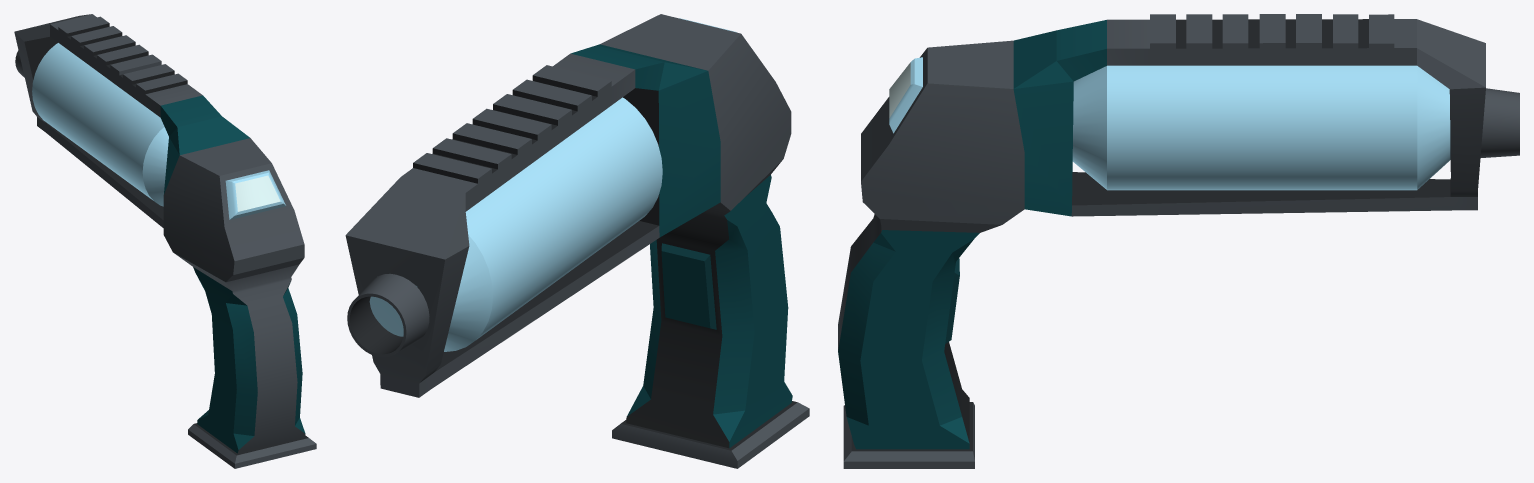
Rendered from Bubble Gun.fbx.
3 renders of one model, left to right at view 1: azimuth 30°, elevation 25°; view 2: azimuth 150°, elevation 25°; view 3: azimuth 270°, elevation 25°, orthographic. The views are drawn at different scales.
Visible parts, largest first — view 1: Cube; view 2: Cube; view 3: Cube.
Boxes of the visible parts, <box> form: Cube: <box>14,14,316,468</box>; Cube: <box>345,14,809,468</box>; Cube: <box>838,14,1519,468</box>.
Size of the model in its own units: 0.9402 by 4.18 by 2.79.
